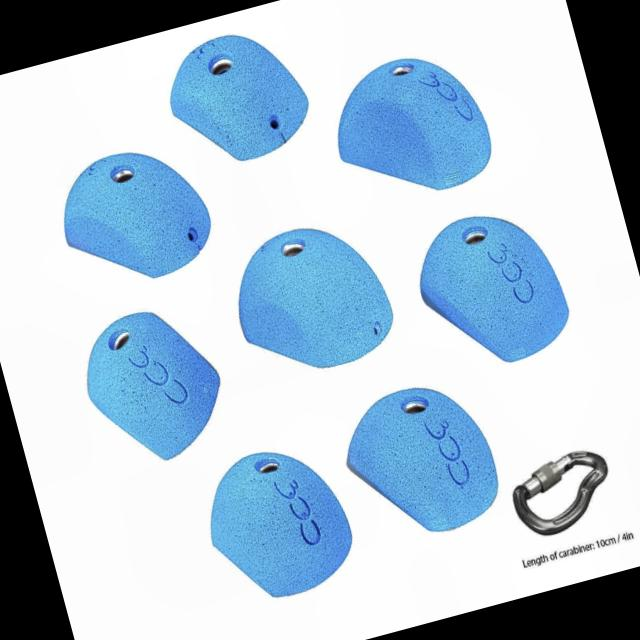Hold: (400, 183, 598, 389), (222, 207, 412, 390), (65, 288, 242, 482), (331, 367, 514, 552), (193, 430, 371, 614), (320, 34, 502, 212), (50, 131, 228, 304), (155, 16, 318, 177)
